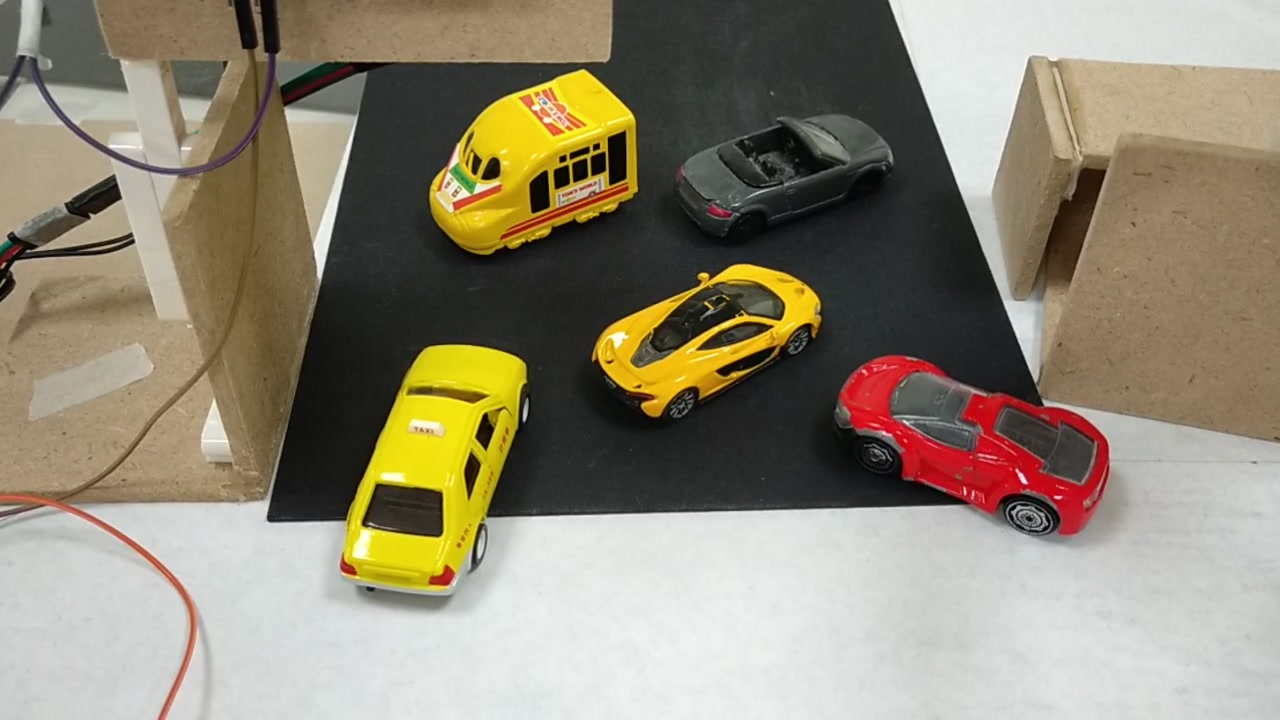car: (829, 342, 1109, 542), (339, 359, 530, 588), (590, 258, 821, 411), (679, 104, 900, 226)
